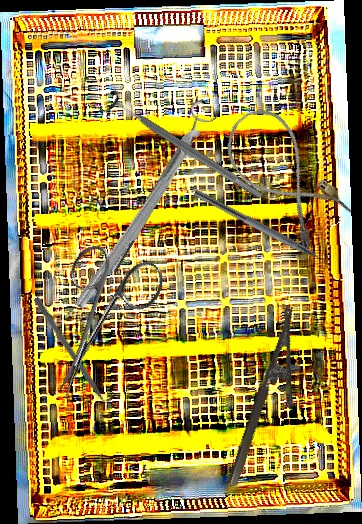Cannula: (212, 98, 356, 254)
Chopper: (188, 188, 339, 278)
Fixation Ring: (68, 124, 220, 320), (97, 97, 222, 278), (98, 87, 269, 209)
Iris Scissors: (21, 234, 170, 417)
Needle Holder: (225, 304, 323, 495)
Pusher: (31, 296, 117, 420)
